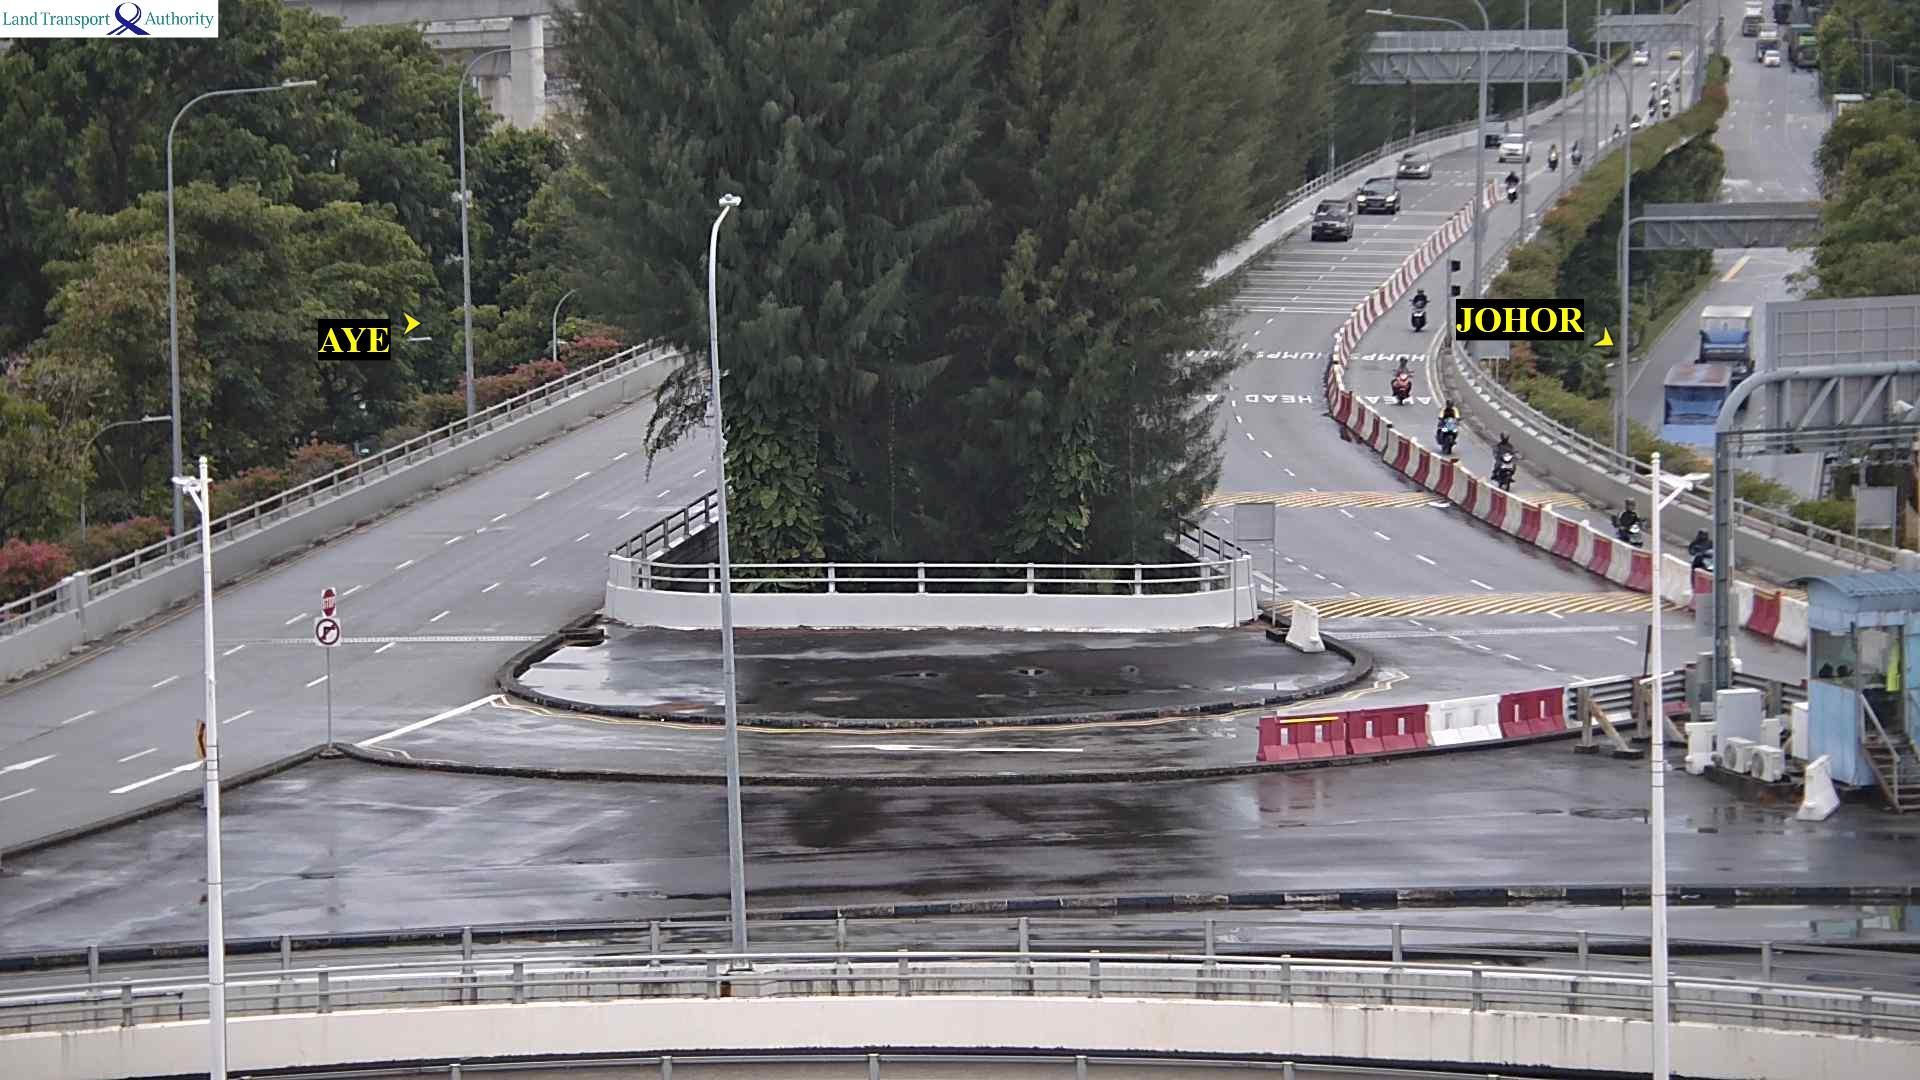vehicle-secondlink-johor: (1353, 179, 1405, 214), (1313, 205, 1359, 242), (1687, 532, 1719, 577), (1611, 509, 1646, 550), (1492, 439, 1521, 488), (1442, 405, 1465, 454), (1396, 154, 1432, 184), (1390, 368, 1413, 405), (1501, 134, 1530, 162), (1412, 289, 1427, 325), (1484, 122, 1507, 143), (1507, 171, 1518, 202), (1550, 142, 1558, 173), (1573, 140, 1580, 167), (1631, 112, 1639, 128), (1614, 124, 1620, 139)
